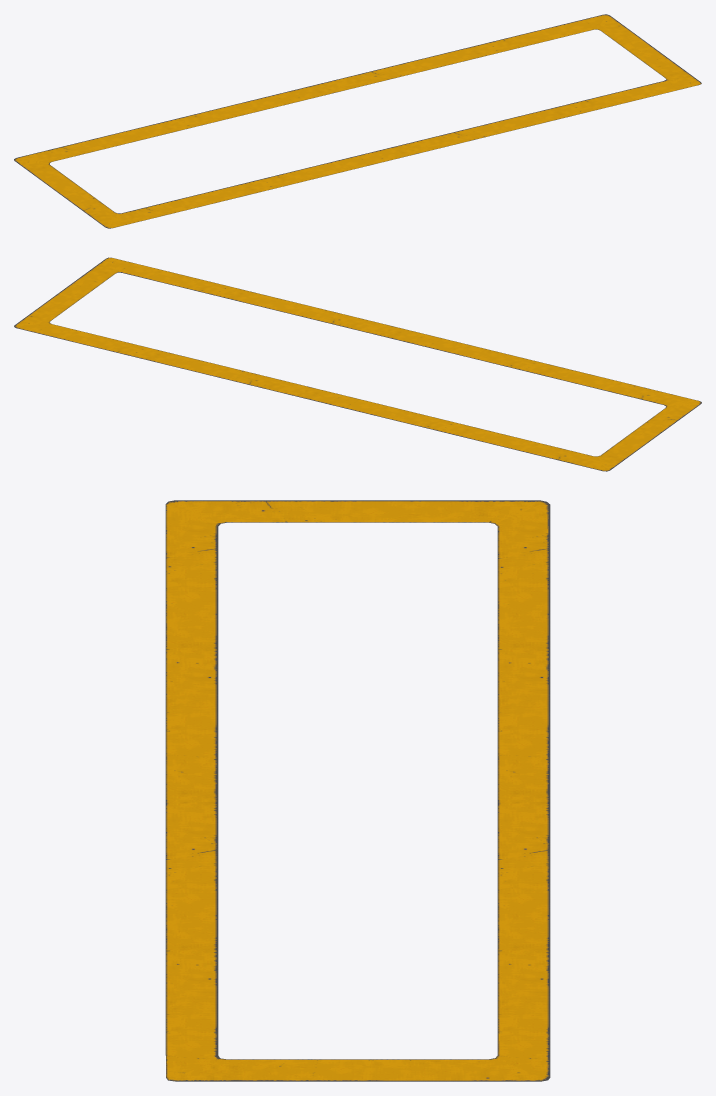
Rendered from SM_FloorDecal_Rec1x4.FBX.
The picture shows the model from 3 angles, top to bottom: view 1: azimuth 30°, elevation 25°; view 2: azimuth 150°, elevation 25°; view 3: azimuth 270°, elevation 25°; orthographic projection. The views are drawn at different scales.
Visible parts, largest first — view 1: SM_FloorDecal_Rec1x4; view 2: SM_FloorDecal_Rec1x4; view 3: SM_FloorDecal_Rec1x4.
Part boxes in pixels (x1,y1,x2,y2): SM_FloorDecal_Rec1x4: (14,14,701,228); SM_FloorDecal_Rec1x4: (14,257,701,471); SM_FloorDecal_Rec1x4: (165,500,550,1081).
Size of the model in its own units: 414 by 116 by 0.
